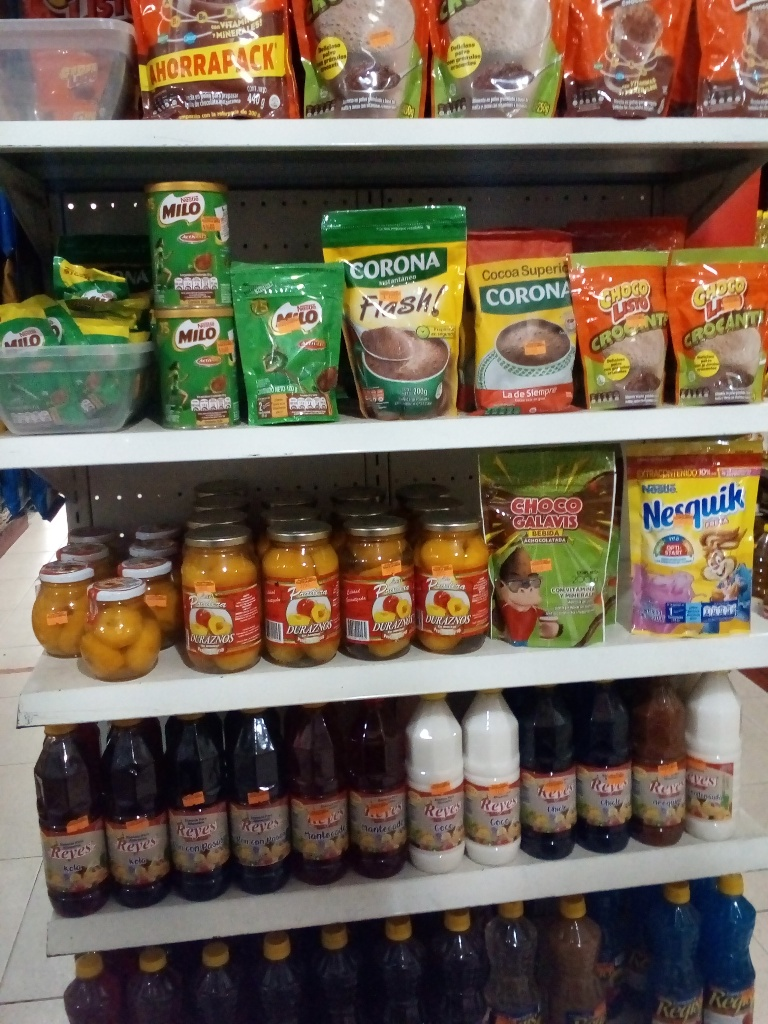COL0170102DYP10000: (569, 230, 666, 411)
COL0170203DYP10000: (231, 257, 334, 420)
COL0170203LAT20000: (149, 186, 236, 313)
